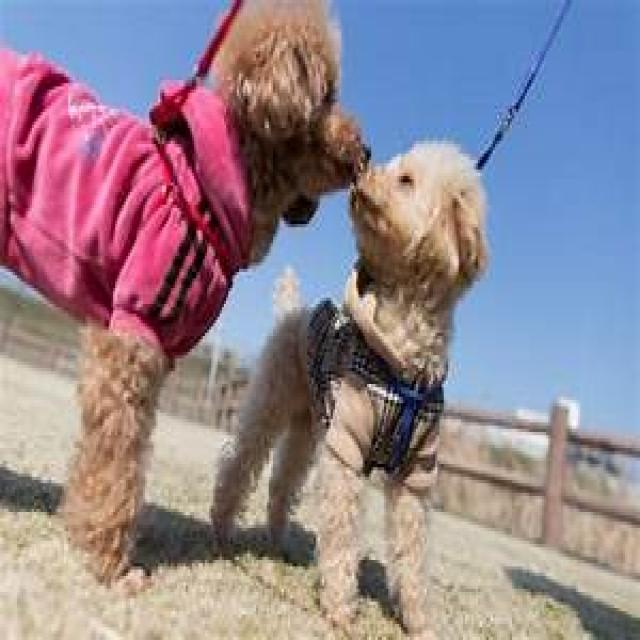dog: (211, 142, 488, 637), (0, 4, 364, 359), (70, 349, 166, 580)
